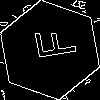F: (25, 25, 77, 63)
